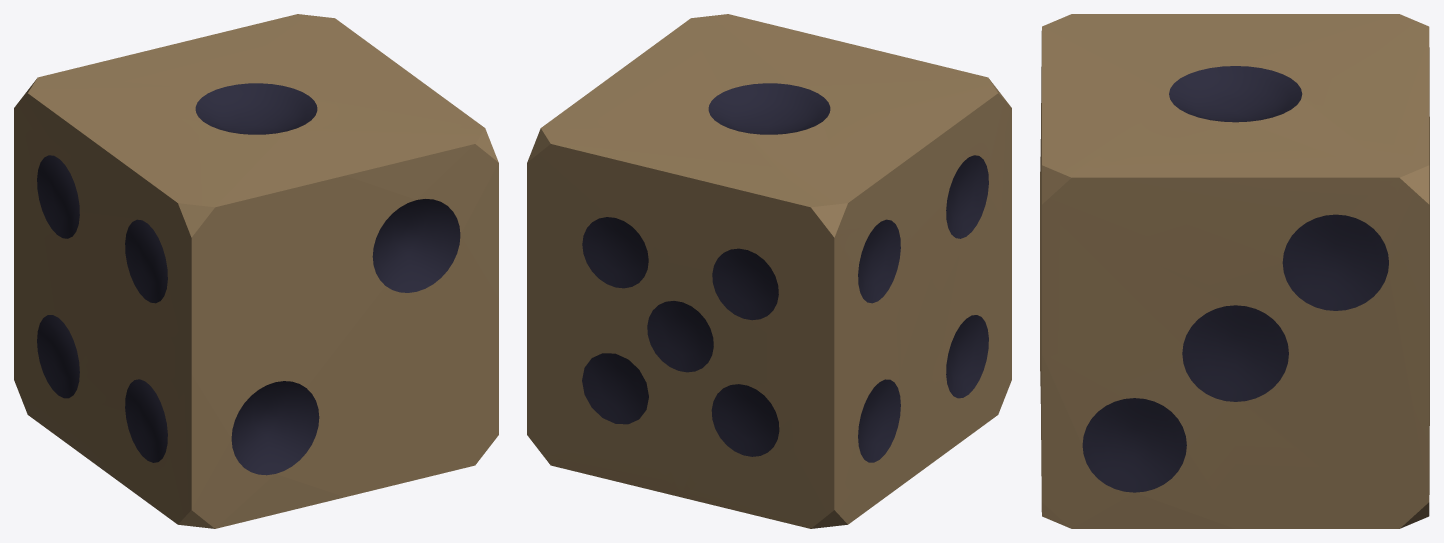
The model's file is Dice_Brown.fbx.
3 renders of one model, left to right at view 1: azimuth 30°, elevation 25°; view 2: azimuth 150°, elevation 25°; view 3: azimuth 270°, elevation 25°, orthographic. The views are drawn at different scales.
Visible parts, largest first — view 1: Dice_Brown; view 2: Dice_Brown; view 3: Dice_Brown.
Part boxes in pixels (left/top/right/bottom): Dice_Brown: left=14, top=14, right=498, bottom=528; Dice_Brown: left=527, top=14, right=1011, bottom=528; Dice_Brown: left=1040, top=14, right=1429, bottom=528.
Bounding box in the file's own units: 110 × 111 × 111.
